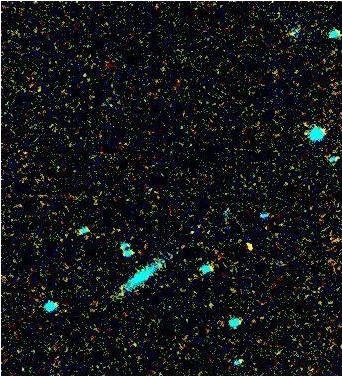star: (234, 231, 264, 261)
